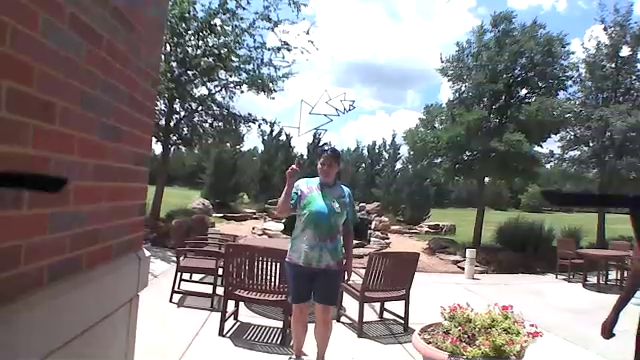up: (281, 154, 302, 185)
